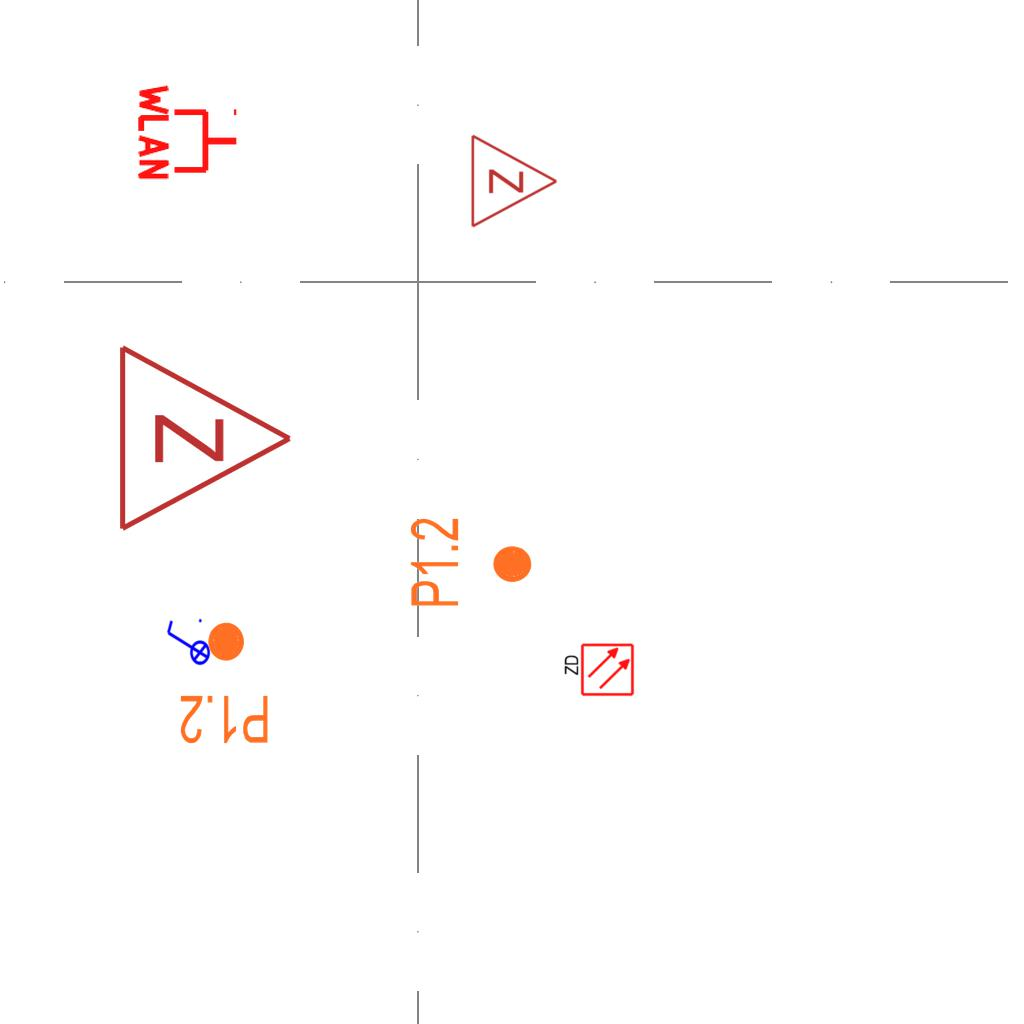Ausschalter_beleuchtet: (163, 616, 211, 672)
Downlight_LED_Einbauleuchten_Flur: (407, 516, 535, 609), (178, 619, 271, 747)
WLAN: (136, 80, 241, 184)
ZD_Melder_in_Zwischendecke_mit_Revisionsoeffnung_mind_40_x_40_cm: (561, 642, 635, 699)
Zimmersignalleuchte: (105, 338, 305, 534), (464, 131, 564, 229)
